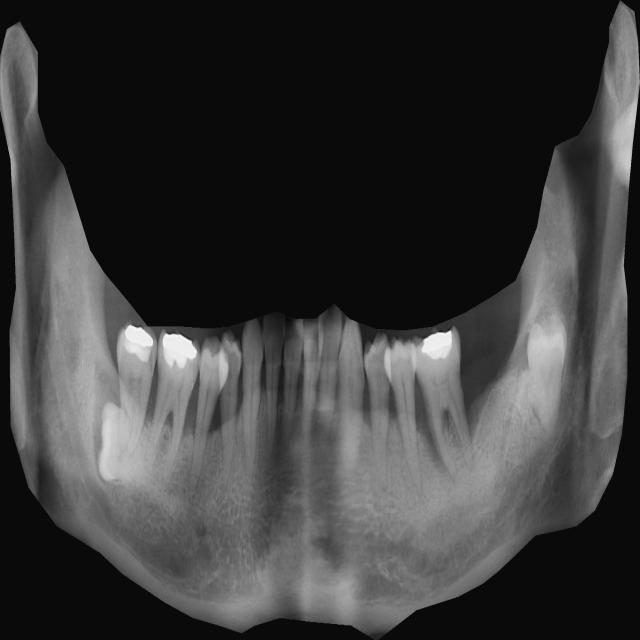mandibula: (0, 0, 640, 640)
